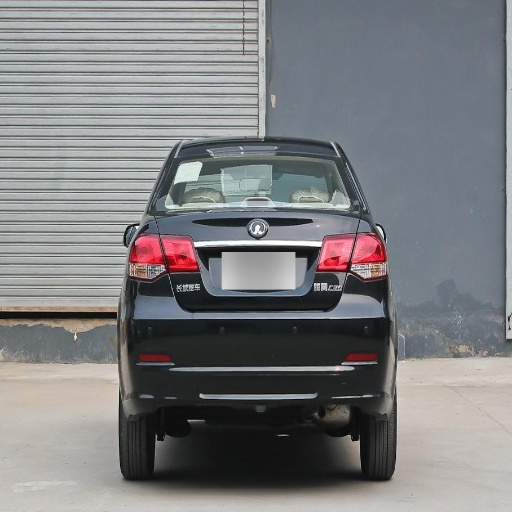back_bumper: (123, 271, 393, 412)
tailgate: (155, 204, 358, 310)
